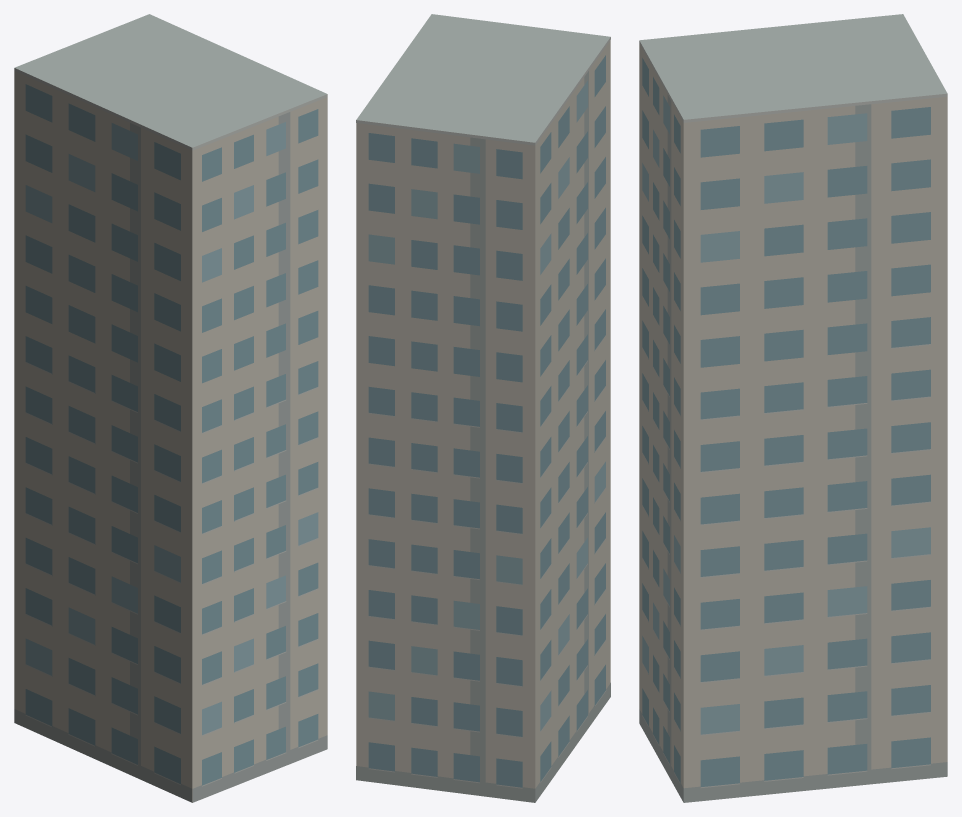
Rendered from residential-d39fc696-1bd6-4fa5-838d-64e615e468a9.glb.
3 renders of one model, left to right at view 1: azimuth 30°, elevation 25°; view 2: azimuth 150°, elevation 25°; view 3: azimuth 270°, elevation 25°, orthographic. The views are drawn at different scales.
Parts seen in each view (by area): view 1: residential-d39fc696-1bd6-4fa5-838d-64e615e468a9.tmp; view 2: residential-d39fc696-1bd6-4fa5-838d-64e615e468a9.tmp; view 3: residential-d39fc696-1bd6-4fa5-838d-64e615e468a9.tmp.
Boxes of the visible parts, <box> form: residential-d39fc696-1bd6-4fa5-838d-64e615e468a9.tmp: <box>14,14,327,802</box>; residential-d39fc696-1bd6-4fa5-838d-64e615e468a9.tmp: <box>356,14,610,802</box>; residential-d39fc696-1bd6-4fa5-838d-64e615e468a9.tmp: <box>639,14,947,802</box>.
Size of the model in its own units: 18.29 by 55 by 22.51.
